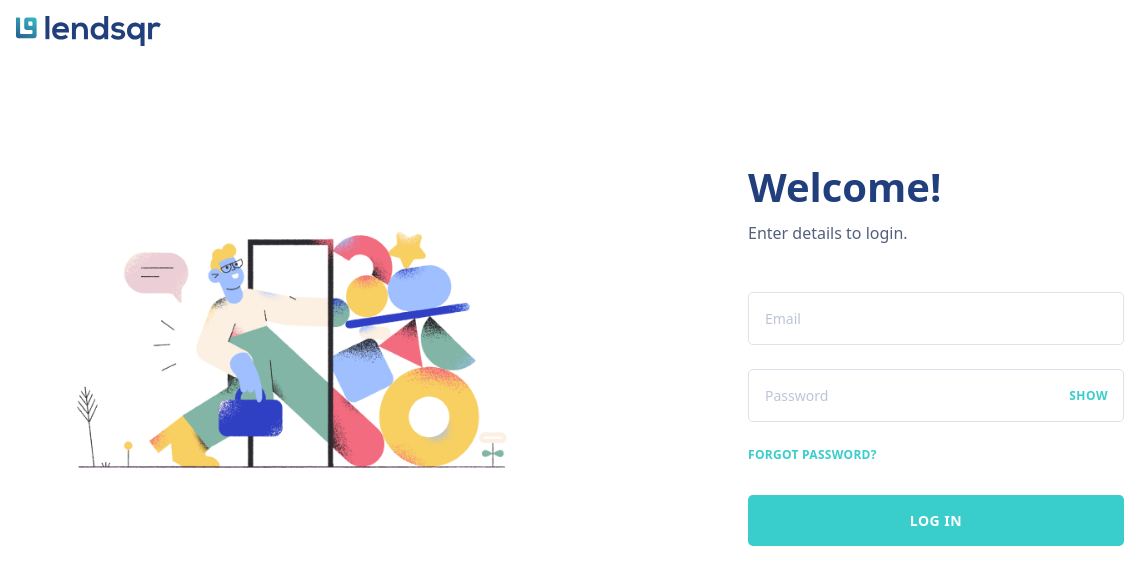
Test: Login page › shows an error banner and does not navigate for an invalid password
Step 1. Type "jafar@example.com" into the field labelled "Email" → (936, 318), box [748,292,1124,344]
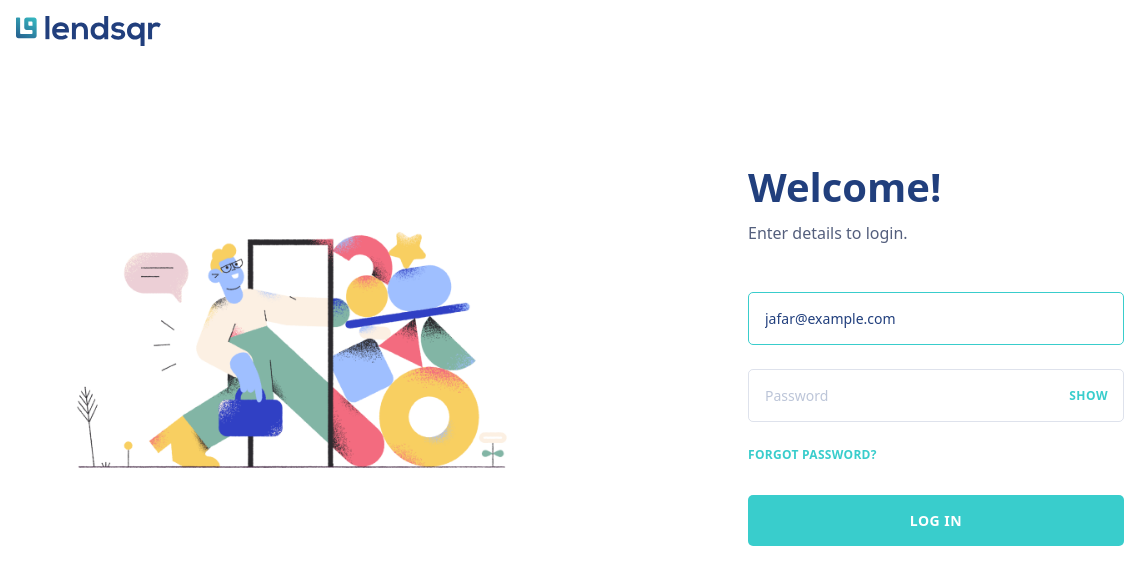
Step 2. Type "ab" into the password field labelled "Password" → (936, 395), box [748,368,1124,422]
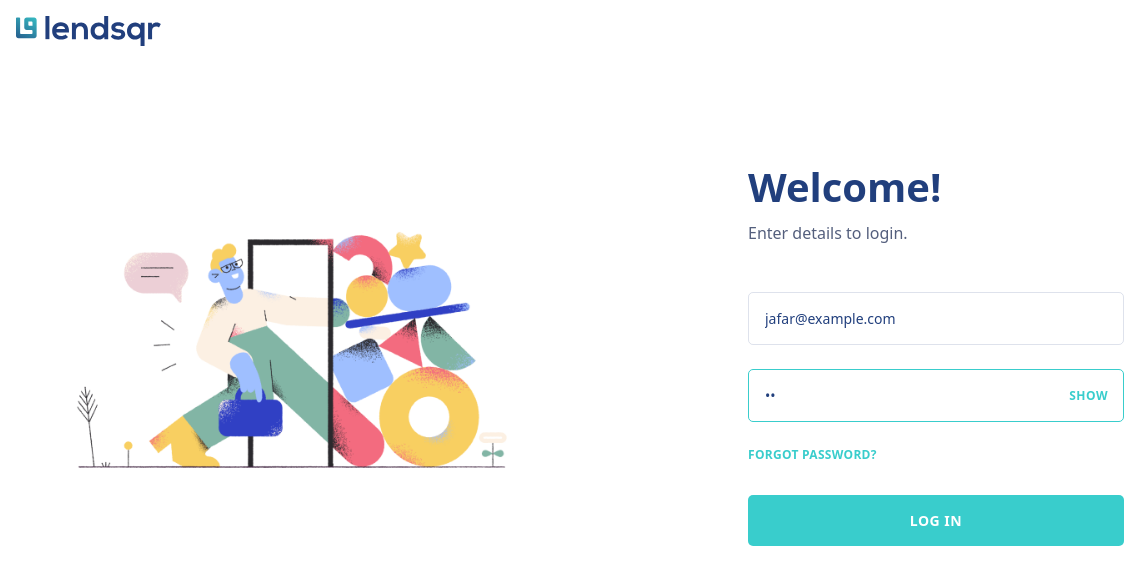
Step 3. Click the button "LOG IN" → (936, 520), box [748,494,1124,546]
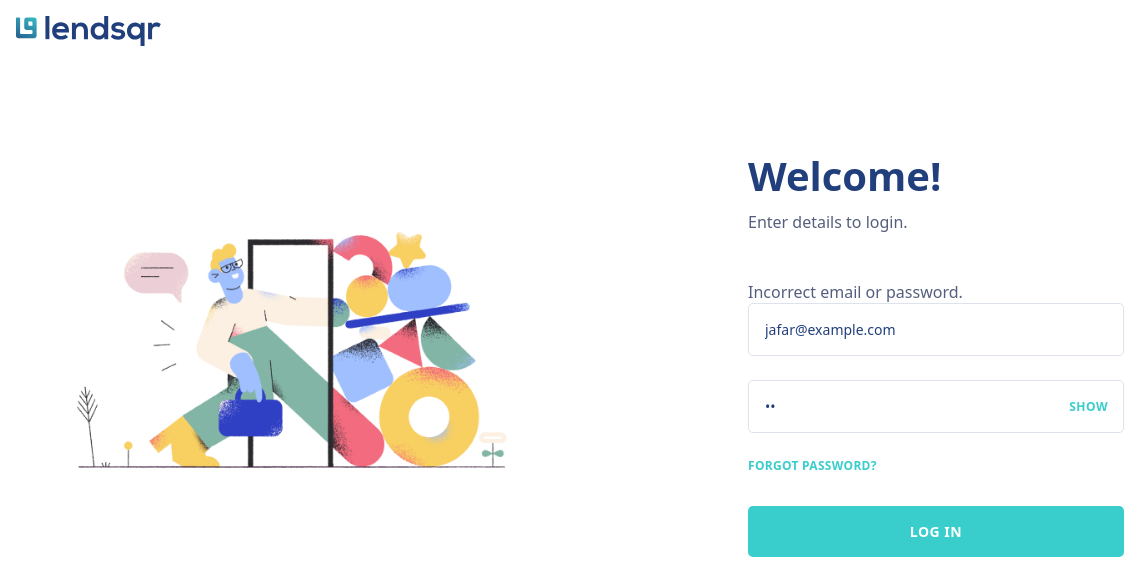
Now the message shows "Incorrect email or password", box [748,280,963,302]
